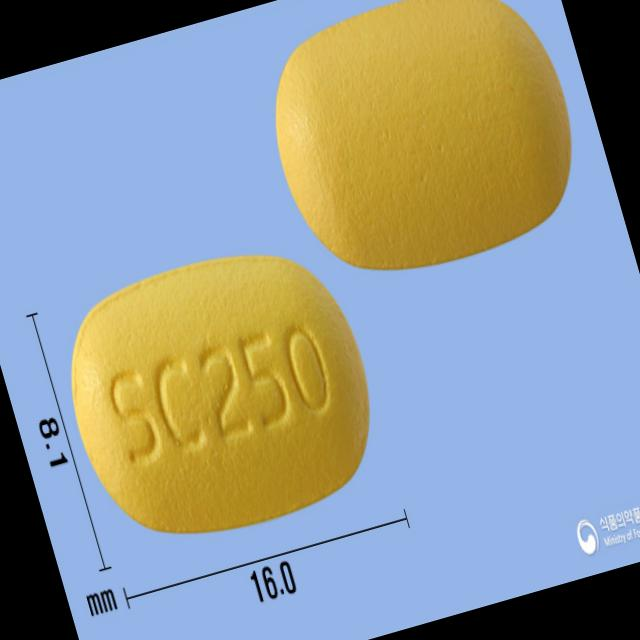Ceclacin: (40, 218, 402, 572)
